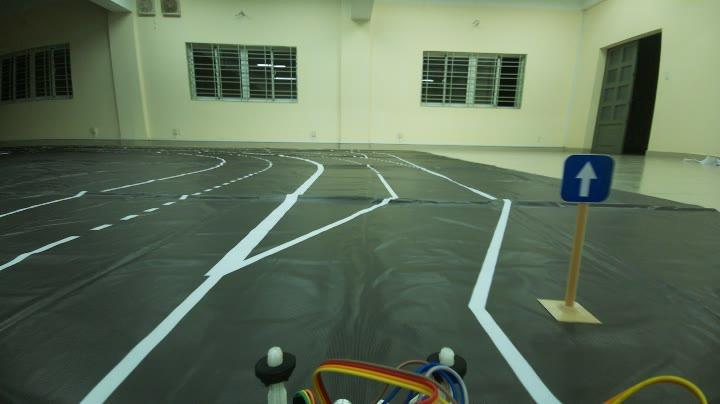onewayroad: (550, 148, 618, 214)
